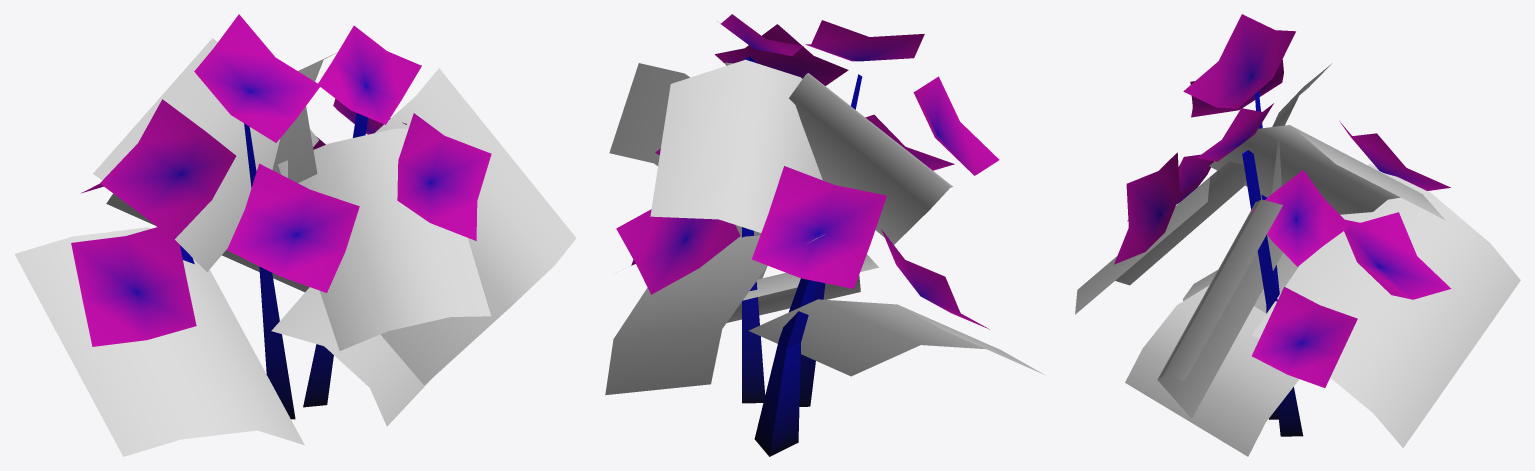
The model's file is Flower_05.fbx.
The picture shows the model from 3 angles, left to right: view 1: azimuth 30°, elevation 25°; view 2: azimuth 150°, elevation 25°; view 3: azimuth 270°, elevation 25°; orthographic projection. The views are drawn at different scales.
Visible parts, largest first — view 1: Flower_05; view 2: Flower_05; view 3: Flower_05.
Boxes of the visible parts, <box> form: Flower_05: <box>14,14,576,456</box>; Flower_05: <box>605,14,1044,456</box>; Flower_05: <box>1075,14,1520,456</box>.
Bounding box in the file's own units: 0.3687 × 0.3173 × 0.3455.
